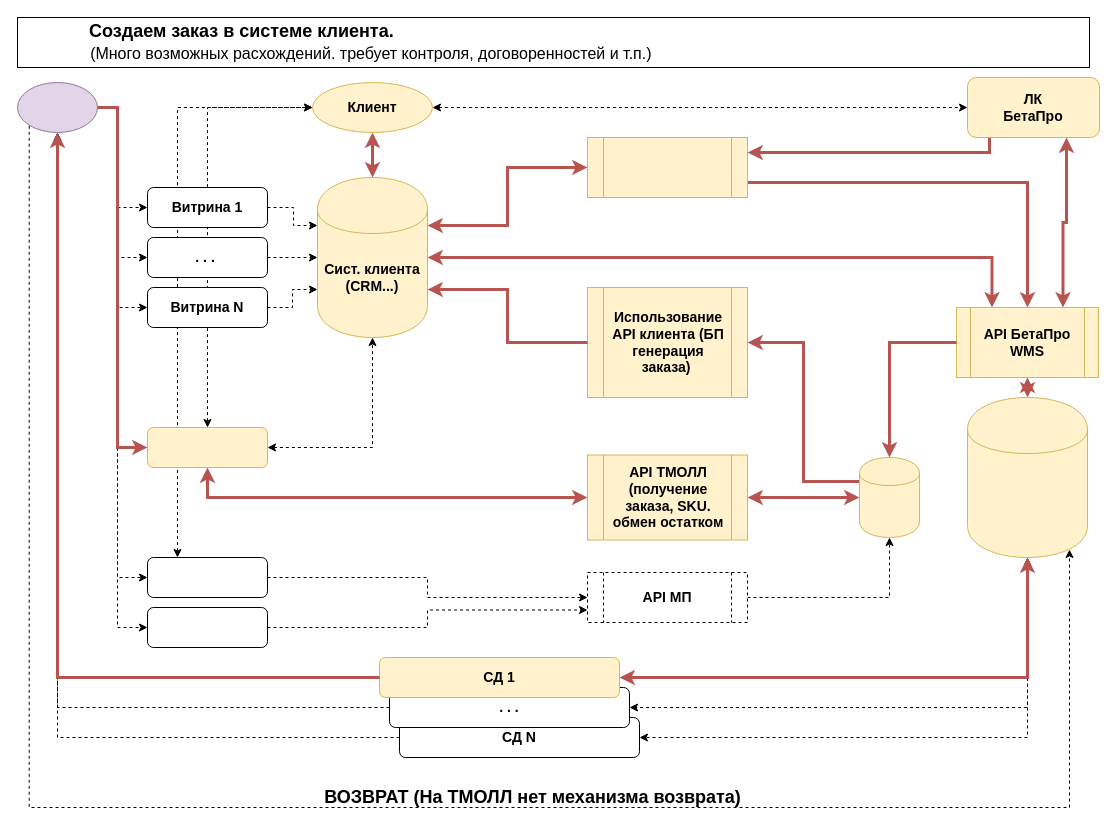
Some shapes in this 1117 by 833 pixel diagram are drawn without their labels. Each missing label, with the centre of its shape:
Заказы МП: the point at 889,497
Модуль интеграции БетаПро (CRM): the point at 667,167
МП ...: the point at 207,577
МП ...N: the point at 207,627
МП ТМОЛЛ: the point at 207,447
Склад БетаПро (WMS): the point at 1027,477
Физ.лиц.: the point at 57,107
